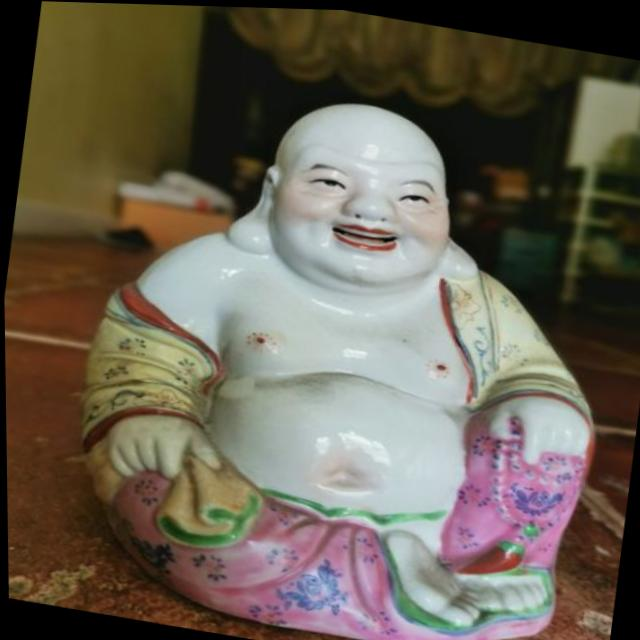Smiling Buddha: (89, 66, 587, 634)
